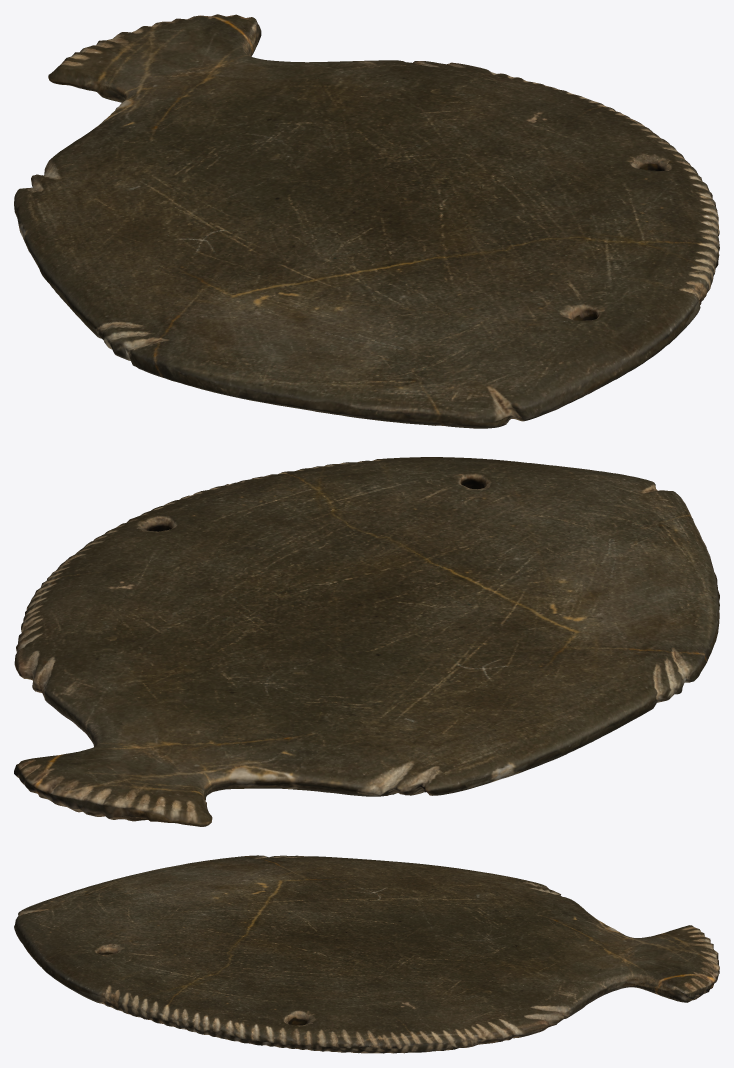
The model's file is Fish.obj.
The picture shows the model from 3 angles, top to bottom: view 1: azimuth 30°, elevation 25°; view 2: azimuth 150°, elevation 25°; view 3: azimuth 270°, elevation 25°; orthographic projection. The views are drawn at different scales.
Parts seen in each view (by area): view 1: Group64747; view 2: Group64747; view 3: Group64747.
Boxes of the visible parts, box(x1,y1,x2,y2) form: Group64747: box(14, 14, 719, 428); Group64747: box(14, 457, 719, 826); Group64747: box(14, 855, 719, 1053).
Bounding box in the file's own units: 19.79 × 2.03 × 28.29.
1 material, 1 textured.
